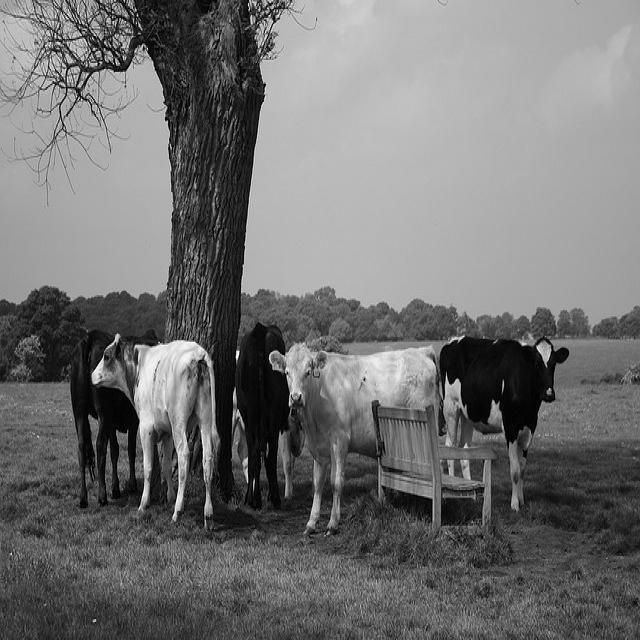cow: (269, 342, 445, 532), (90, 331, 218, 529), (437, 331, 569, 510), (67, 328, 158, 510), (236, 321, 289, 510), (279, 405, 304, 504), (230, 349, 248, 477)
